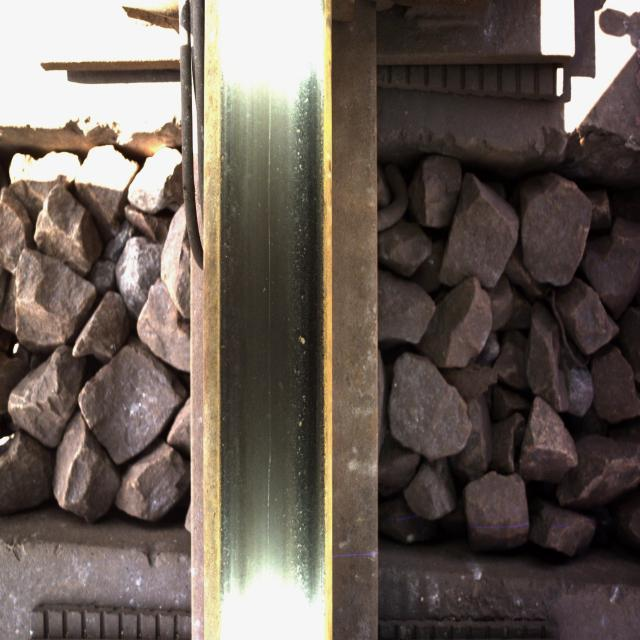break: (218, 39, 322, 584)
